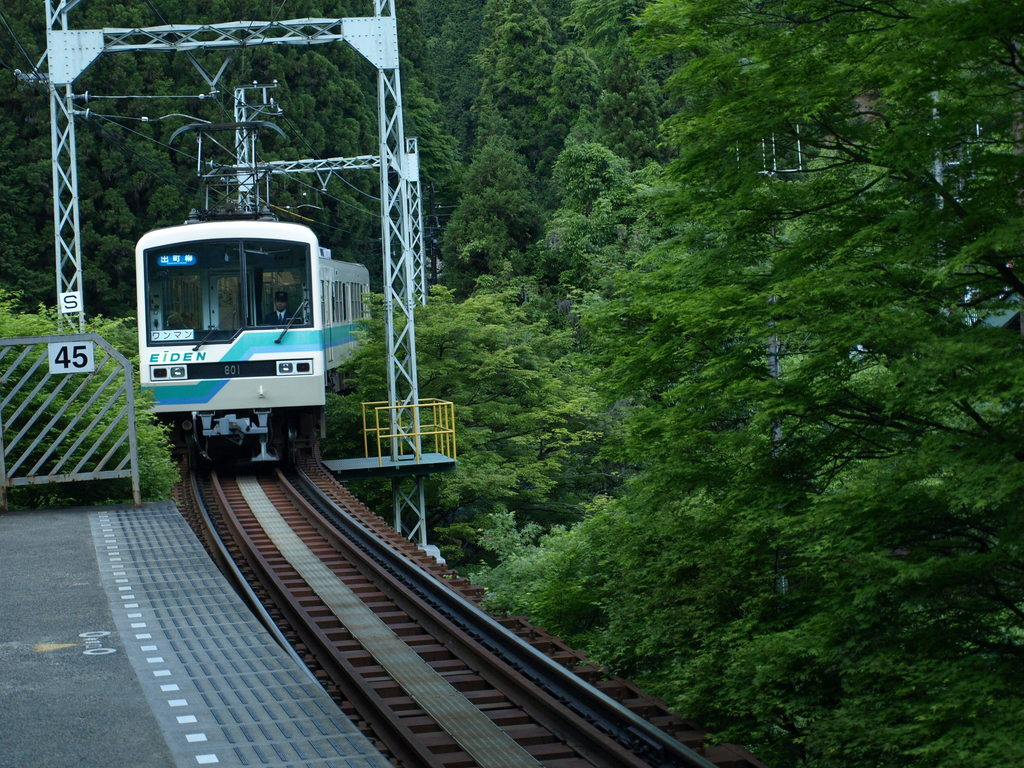train: (138, 122, 372, 471)
